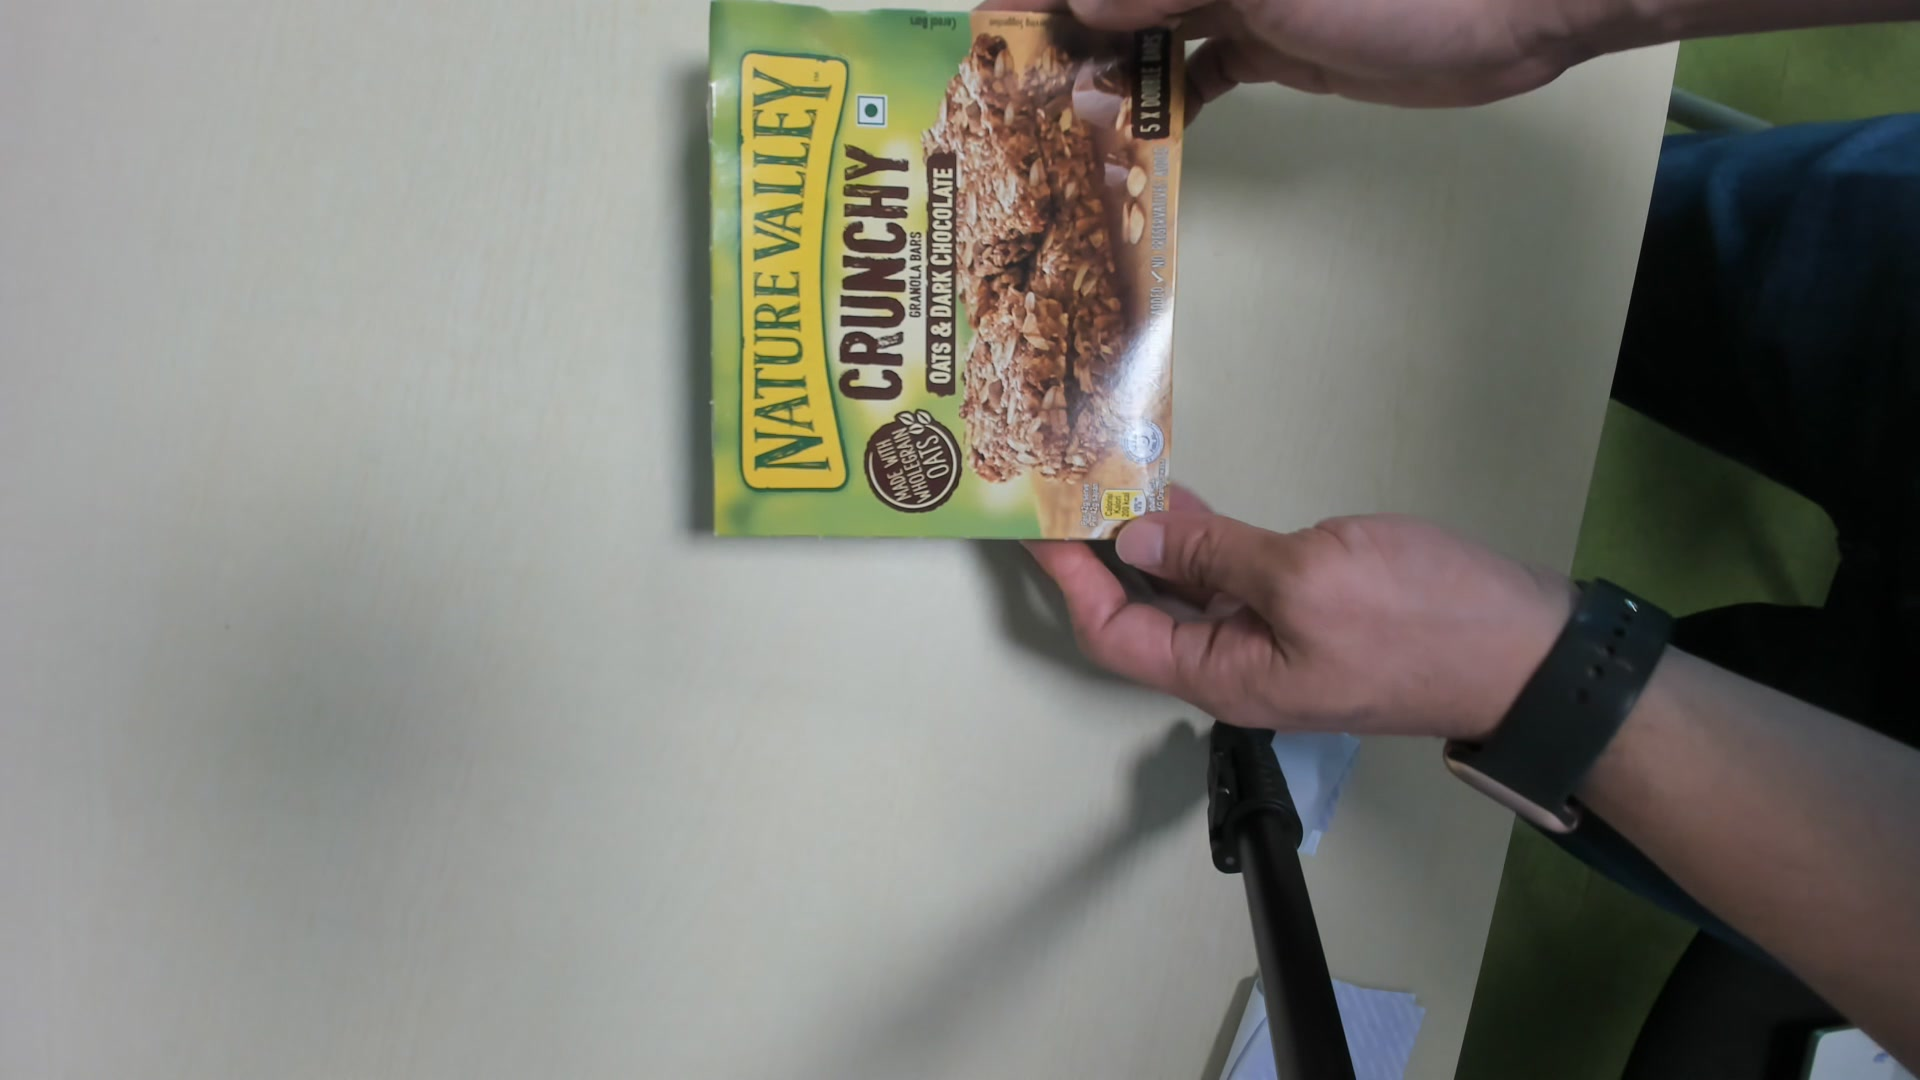SweetsChocolatesOthers_200-299g_Halal_Nonhealthy: (690, 5, 1188, 546)
